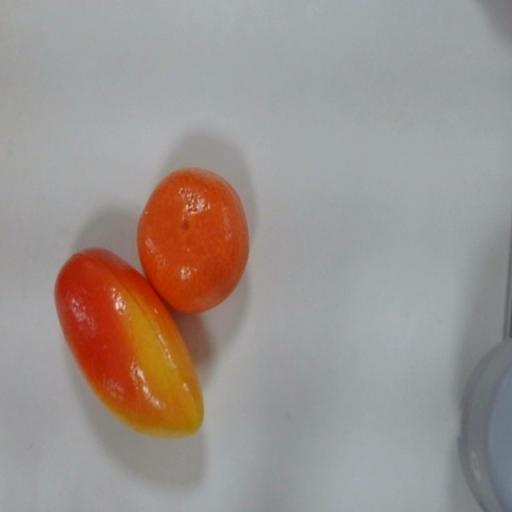Ripe: (45, 243, 234, 480), (136, 159, 266, 320)
